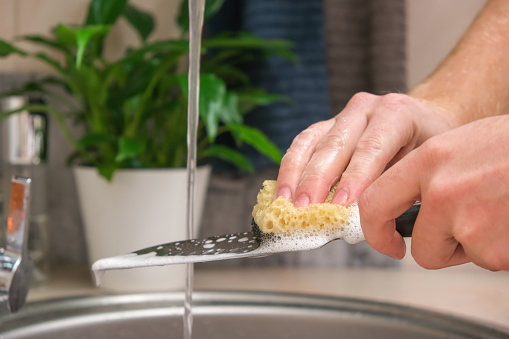knife: (89, 206, 420, 271)
